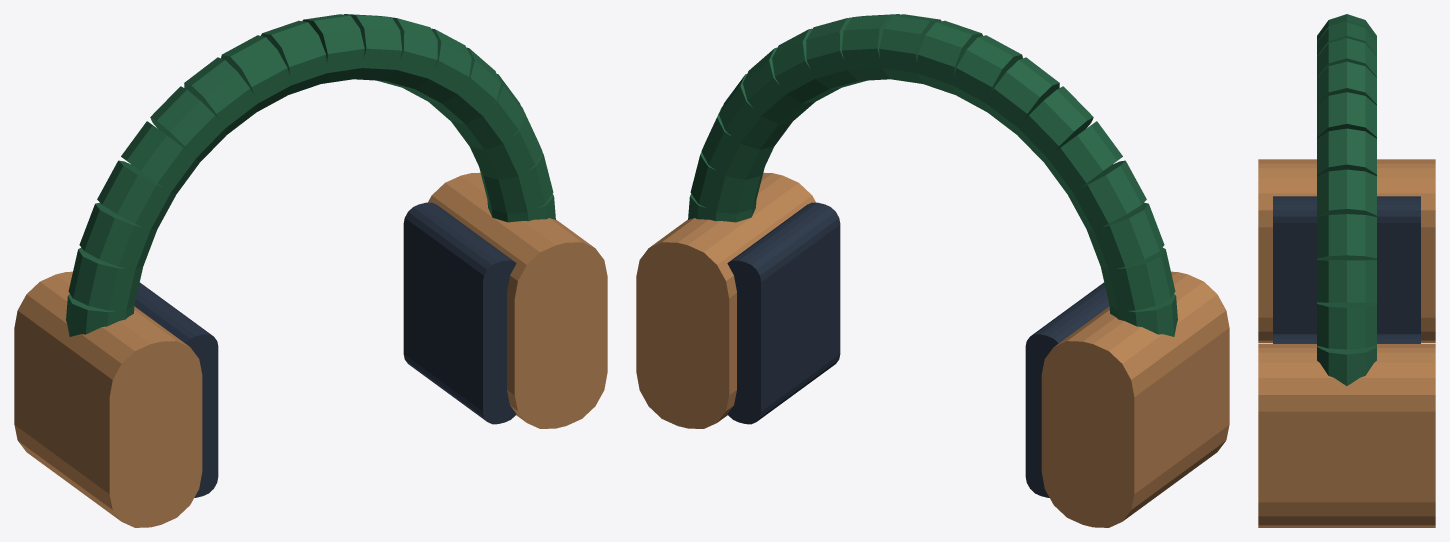
The model's file is headphones.glb.
3 renders of one model, left to right at view 1: azimuth 30°, elevation 25°; view 2: azimuth 150°, elevation 25°; view 3: azimuth 270°, elevation 25°, orthographic. The views are drawn at different scales.
Visible parts, largest first — view 1: left cup, right cup, right pad, left pad, headband15, headband14, headband12, headband16, headband11, headband13, headband10, headband9 (+10 smaller); view 2: left cup, right cup, right pad, left pad, headband15, headband14, headband12, headband16, headband11, headband13, headband10, headband9 (+10 smaller); view 3: right cup, left pad, left cup, headband1, headband3, headband4, headband2, headband5, headband6, headband7, headband0, headband8 (+3 smaller).
Boxes of the visible parts, x1,y1,x2,y2 form: left cup: [14, 271, 202, 527]; right cup: [428, 172, 607, 428]; right pad: [403, 202, 516, 424]; left pad: [134, 282, 218, 497]; headband15: [79, 202, 156, 269]; headband14: [97, 160, 176, 230]; headband12: [150, 86, 226, 162]; headband16: [68, 247, 142, 310]; headband11: [184, 57, 257, 134]; headband13: [121, 121, 199, 194]; headband10: [221, 35, 292, 111]; headband9: [261, 20, 327, 94]; left cup: [1041, 271, 1229, 527]; right cup: [636, 172, 815, 428]; right pad: [727, 202, 840, 424]; left pad: [1025, 282, 1109, 497]; headband15: [1087, 202, 1164, 270]; headband14: [1067, 160, 1146, 230]; headband12: [1017, 86, 1093, 162]; headband16: [1101, 247, 1175, 310]; headband11: [986, 57, 1059, 134]; headband13: [1044, 121, 1122, 194]; headband10: [951, 35, 1022, 111]; headband9: [917, 20, 982, 94]; right cup: [1258, 344, 1435, 527]; left pad: [1273, 196, 1420, 333]; left cup: [1258, 159, 1435, 343]; headband1: [1317, 302, 1376, 349]; headband3: [1317, 214, 1376, 259]; headband4: [1317, 169, 1376, 216]; headband2: [1317, 260, 1376, 302]; headband5: [1317, 128, 1376, 176]; headband6: [1317, 92, 1376, 138]; headband7: [1317, 61, 1376, 105]; headband0: [1317, 345, 1376, 385]; headband8: [1317, 38, 1376, 77].
Bounding box in the file's own units: 1.45 × 1.17 × 0.48.
